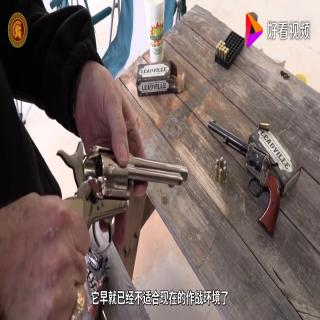gun: (40, 126, 189, 312), (205, 113, 281, 243)
